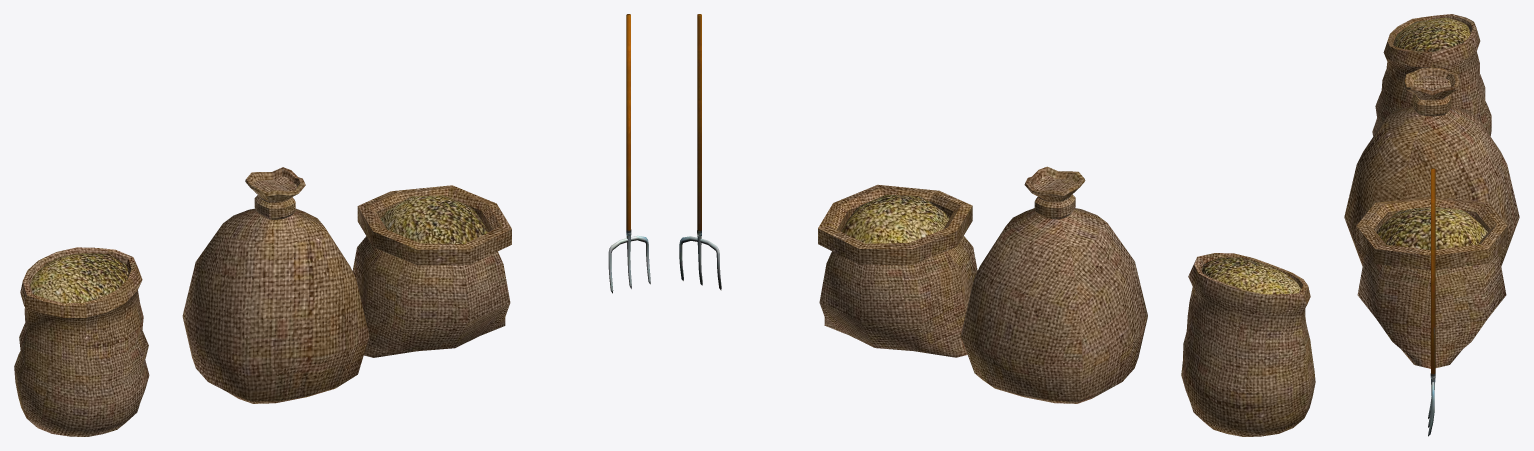
File: Zerno&Vili.fbx
The picture shows the model from 3 angles, left to right: view 1: azimuth 30°, elevation 25°; view 2: azimuth 150°, elevation 25°; view 3: azimuth 270°, elevation 25°; orthographic projection. The views are drawn at different scales.
Visible parts, largest first — view 1: Meshok, Meshok_01, Meshok_02, Цилиндр; view 2: Meshok, Meshok_01, Meshok_02, Цилиндр; view 3: Meshok_01, Meshok, Meshok_02, Цилиндр.
Part boxes in pixels (x1,y1,x2,y2): Meshok: (182,167,369,403); Meshok_01: (352,185,511,357); Meshok_02: (14,247,149,436); Цилиндр: (608,14,650,293); Meshok: (960,166,1147,403); Meshok_01: (818,184,977,357); Meshok_02: (1181,253,1315,436); Цилиндр: (679,14,721,290); Meshok_01: (1356,196,1507,368); Meshok: (1344,67,1519,265); Meshok_02: (1372,14,1491,136); Цилиндр: (1428,168,1435,436).
Size of the model in its own units: 285 by 118 by 72.46.
Materials: 1 (1 with a texture image).
